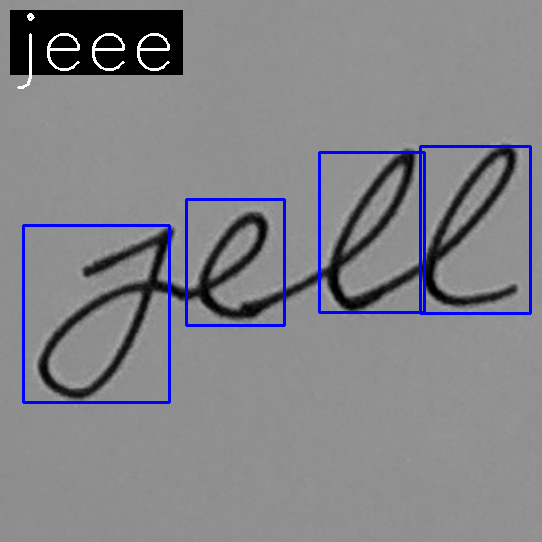e: (194, 208, 280, 324)
j: (33, 225, 175, 402)
l: (422, 141, 523, 308), (322, 146, 418, 314)
